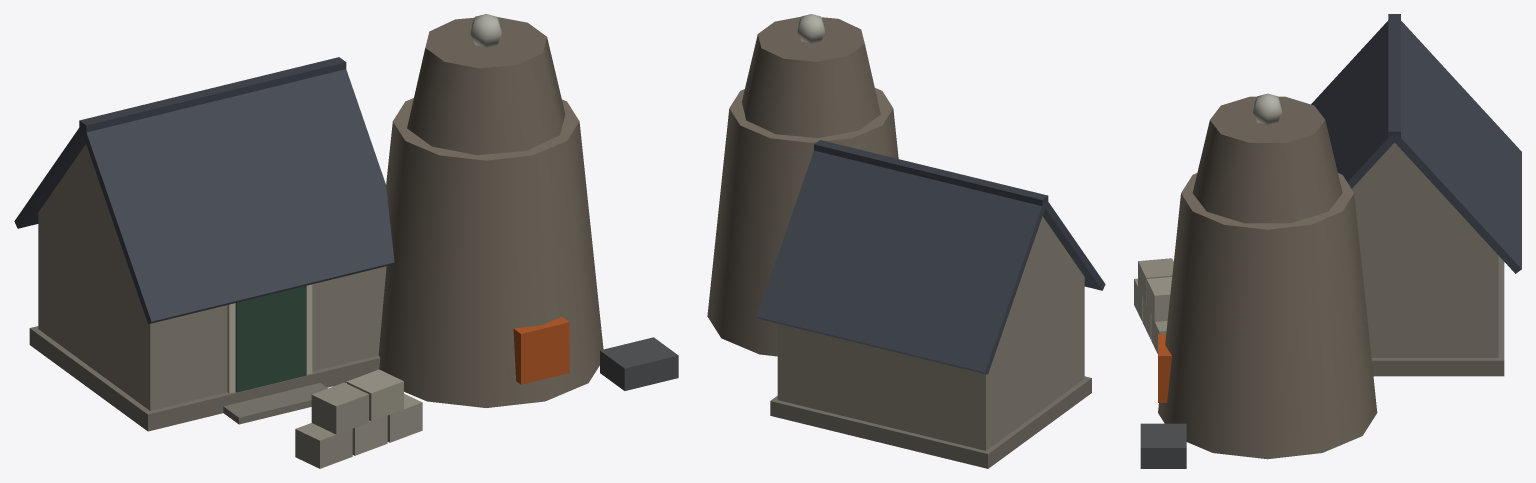
Rendered from procedural_powdermill@3.glb.
3 views of the same model, side by side, from view 1: azimuth 30°, elevation 25°; view 2: azimuth 150°, elevation 25°; view 3: azimuth 270°, elevation 25° (orthographic). The views are drawn at different scales.
Parts seen in each view (by area): view 1: part_0, part_4; view 2: part_0, part_4; view 3: part_0, part_4.
Boxes of the visible parts, <box> form: part_0: <box>14,17,678,468</box>; part_4: <box>470,14,501,47</box>; part_0: <box>707,16,1105,468</box>; part_4: <box>797,14,824,43</box>; part_0: <box>1134,14,1521,468</box>; part_4: <box>1253,93,1281,124</box>.
Bounding box in the file's own units: 8.51 × 6.09 × 6.72.
